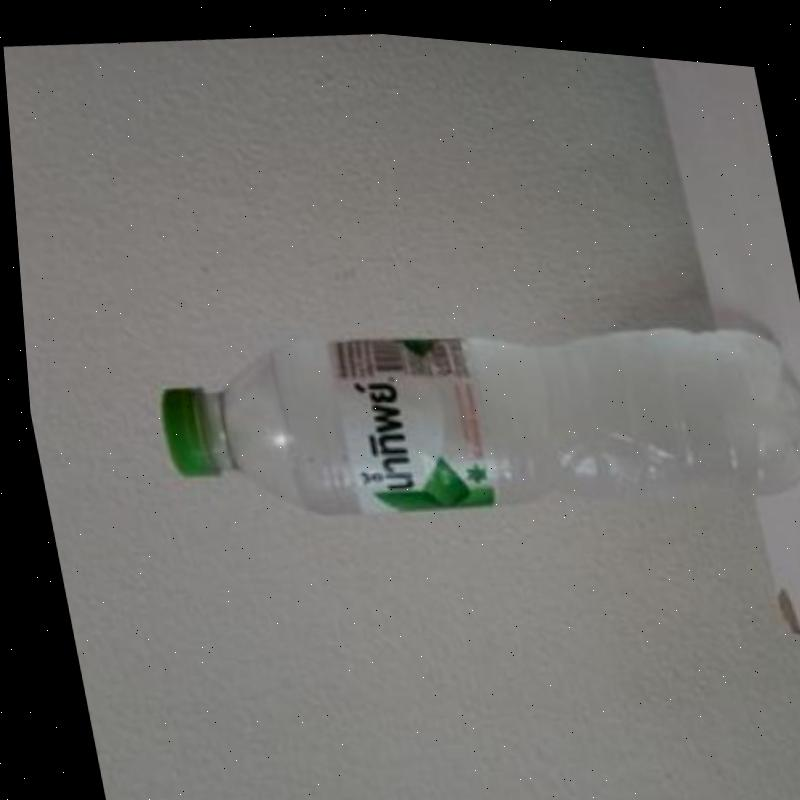botella: (132, 257, 800, 574)
